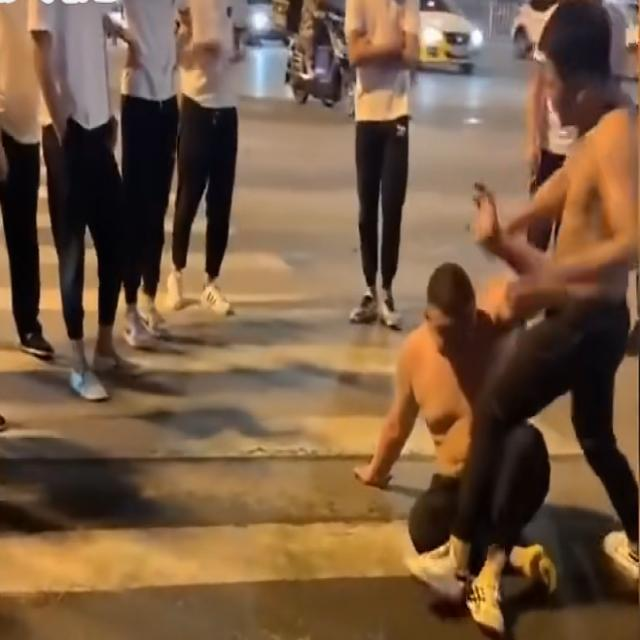fight: (408, 163, 640, 506)
nofight: (169, 0, 289, 328), (44, 7, 132, 411), (339, 0, 438, 334)
